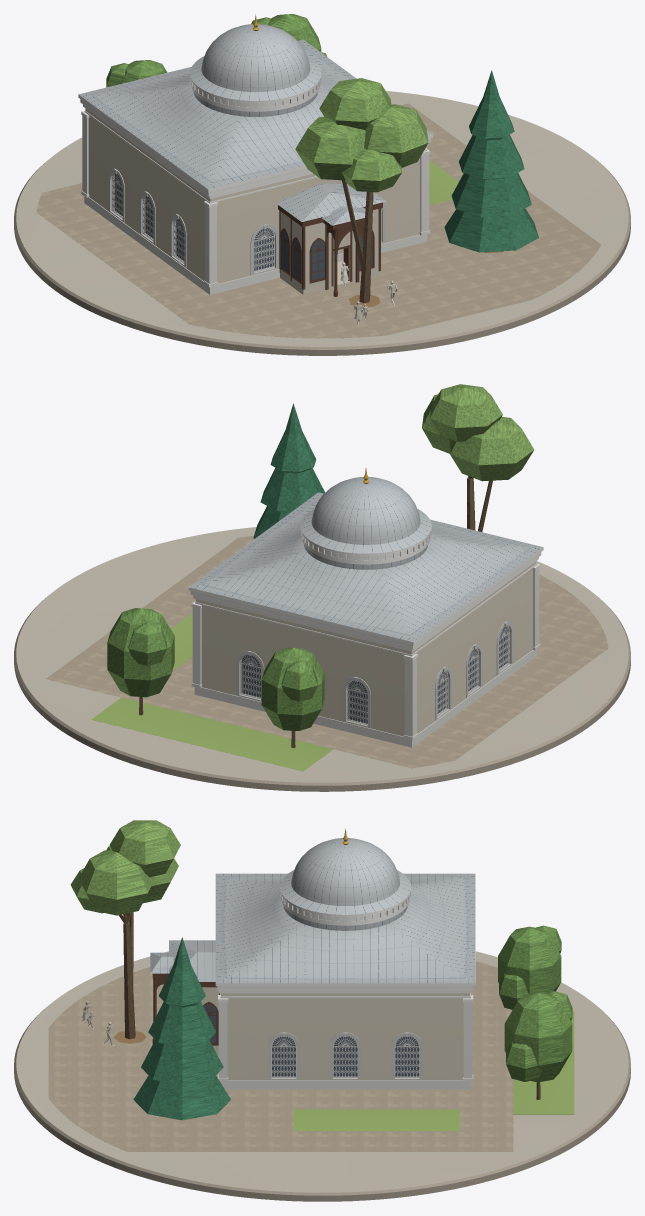
Rendered from orhan-gazi-turbesi_v02_sunum.glb.
3 renders of one model, top to bottom at view 1: azimuth 30°, elevation 25°; view 2: azimuth 150°, elevation 25°; view 3: azimuth 270°, elevation 25°, orthographic.
Visible parts, largest first — view 1: Zemin_Doseme, Zemin_Kaide, Govde, Cati_Etek, Cevre_Agac_01, Cevre_Agac_04, Giris_Holu, Pilastr_Silme, Kubbe, Pencereler, Kasnak, Zemin_Cim (+2 smaller); view 2: Zemin_Kaide, Govde, Cati_Etek, Zemin_Doseme, Pilastr_Silme, Cevre_Agac_01, Kubbe, Zemin_Cim, Cevre_Agac_02, Cevre_Agac_03, Pencereler, Cevre_Agac_04 (+1 smaller); view 3: Zemin_Doseme, Zemin_Kaide, Cati_Etek, Govde, Cevre_Agac_04, Cevre_Agac_01, Pilastr_Silme, Kubbe, Zemin_Cim, Cevre_Agac_02, Cevre_Agac_03, Pencereler (+2 smaller).
Part boxes in pixels (x1,y1,x2,y2): Zemin_Doseme: [36, 103, 601, 338]; Zemin_Kaide: [14, 91, 630, 355]; Govde: [85, 108, 425, 283]; Cati_Etek: [79, 39, 432, 189]; Cevre_Agac_01: [295, 78, 428, 303]; Cevre_Agac_04: [444, 70, 538, 252]; Giris_Holu: [276, 183, 386, 296]; Pilastr_Silme: [78, 94, 433, 294]; Kubbe: [190, 14, 321, 100]; Pencereler: [108, 168, 385, 274]; Kasnak: [190, 77, 320, 116]; Zemin_Cim: [349, 160, 502, 307]; Zemin_Kaide: [14, 527, 630, 791]; Govde: [195, 561, 536, 736]; Cati_Etek: [189, 492, 542, 641]; Zemin_Doseme: [46, 536, 608, 768]; Pilastr_Silme: [188, 547, 543, 747]; Cevre_Agac_01: [422, 384, 534, 531]; Kubbe: [300, 467, 431, 553]; Zemin_Cim: [91, 613, 333, 771]; Cevre_Agac_02: [107, 608, 174, 715]; Cevre_Agac_03: [261, 647, 324, 747]; Pencereler: [236, 621, 513, 727]; Cevre_Agac_04: [253, 403, 325, 538]; Zemin_Doseme: [48, 961, 513, 1151]; Zemin_Kaide: [14, 951, 630, 1201]; Cati_Etek: [215, 873, 475, 983]; Govde: [221, 993, 470, 1080]; Cevre_Agac_04: [133, 937, 230, 1120]; Cevre_Agac_01: [70, 820, 180, 1039]; Pilastr_Silme: [215, 874, 475, 1089]; Kubbe: [280, 829, 411, 914]; Zemin_Cim: [114, 1011, 574, 1130]; Cevre_Agac_02: [504, 991, 572, 1099]; Cevre_Agac_03: [498, 925, 561, 1009]; Pencereler: [267, 1032, 423, 1079].
Bounding box in the file's own units: 41.56 × 16.5 × 41.56.
24 materials, 9 textured.
